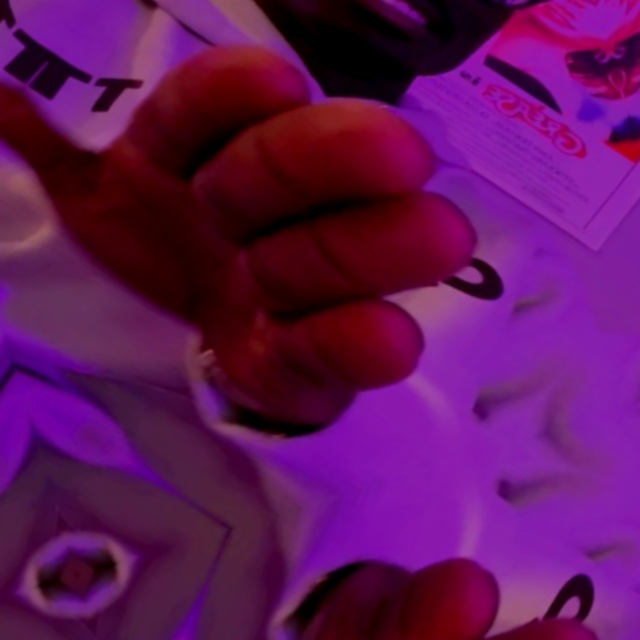Paper: (0, 0, 446, 34)
